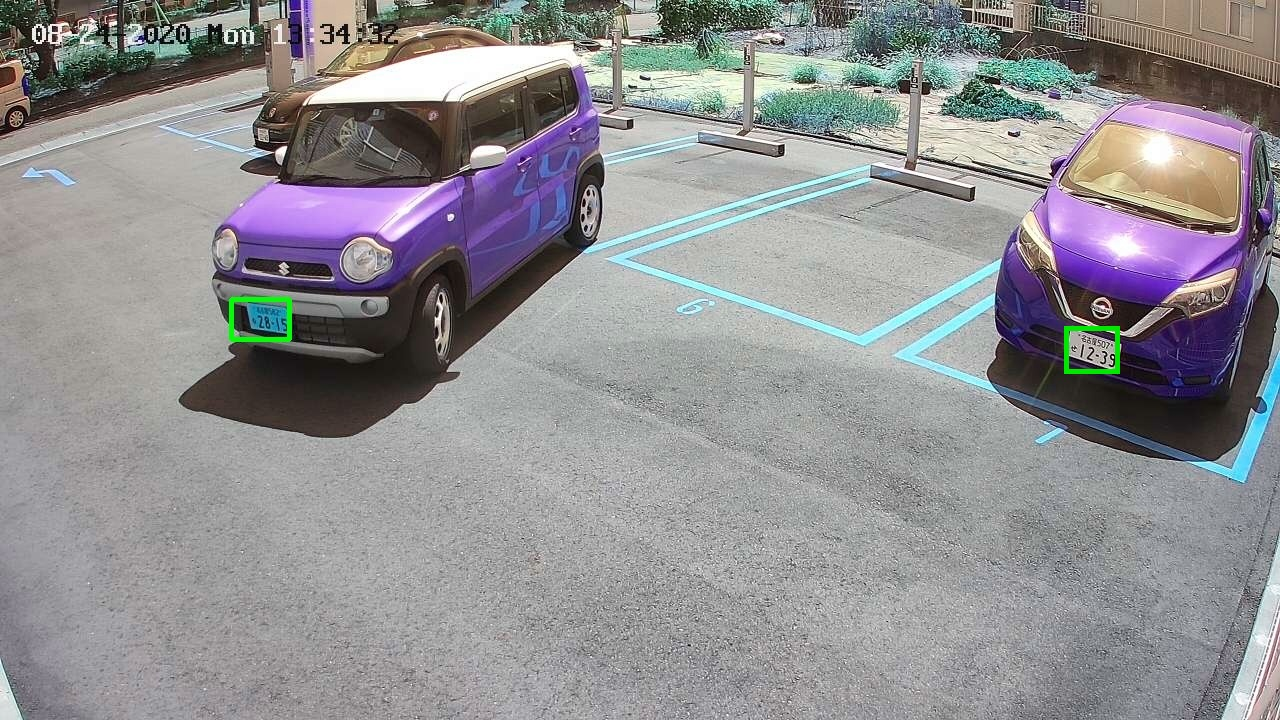number_plate: (1070, 328, 1120, 370), (247, 302, 291, 335)
